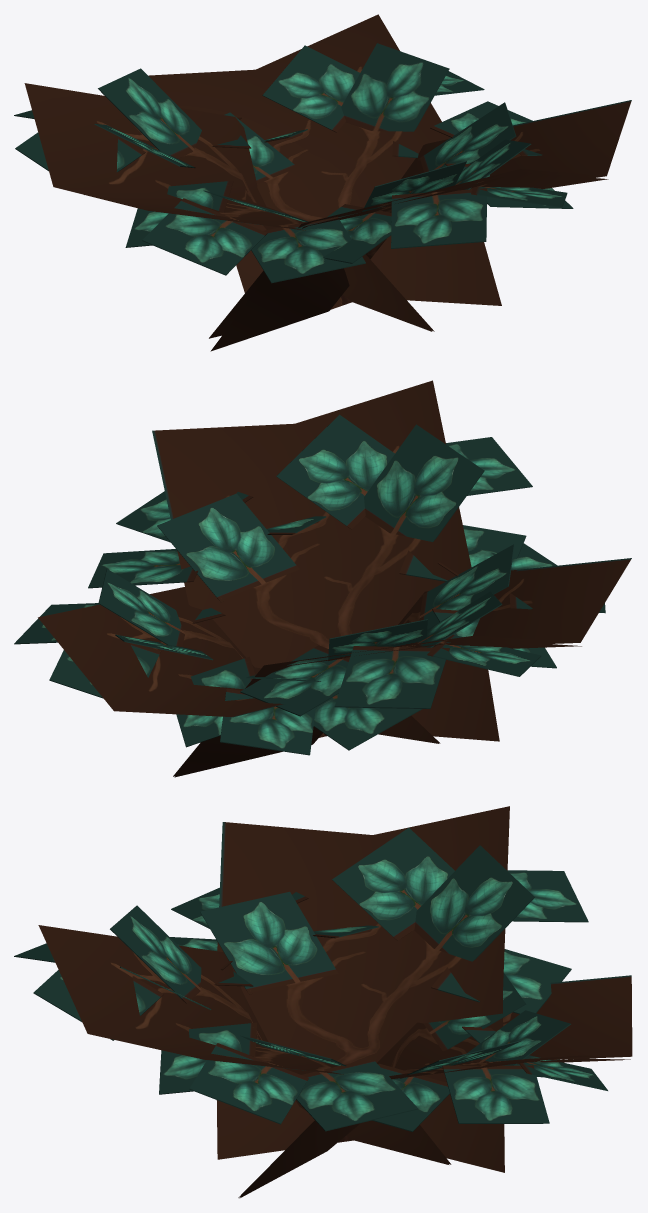
Rendered from bush_02d.fbx.
The picture shows the model from 3 angles, top to bottom: view 1: azimuth 30°, elevation 25°; view 2: azimuth 150°, elevation 25°; view 3: azimuth 270°, elevation 25°; orthographic projection. The views are drawn at different scales.
Visible parts, largest first — view 1: bush_02d; view 2: bush_02d; view 3: bush_02d.
Part boxes in pixels (x1=…): bush_02d: x1=14, y1=14, x2=631, y2=351; bush_02d: x1=14, y1=380, x2=631, y2=777; bush_02d: x1=14, y1=806, x2=632, y2=1198.
Size of the model in its own units: 8.67 by 3.75 by 9.
